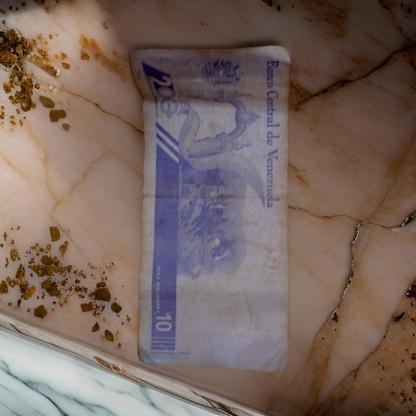ten-back-vef: (130, 46, 288, 366)
